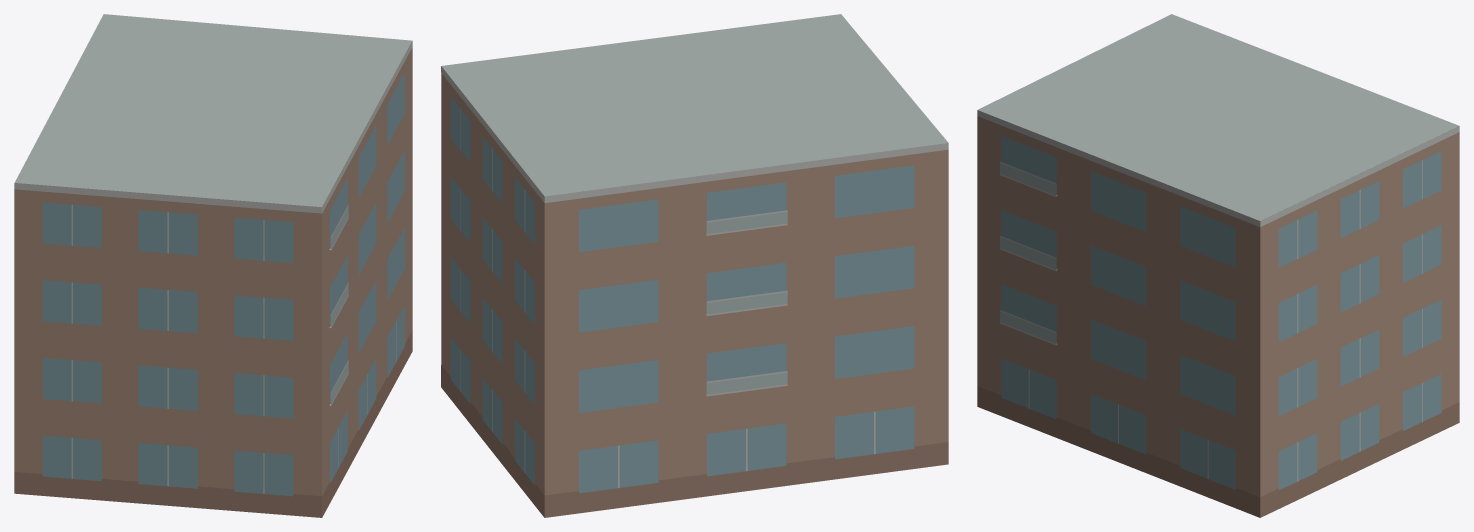
The model's file is survey-upis-32809691.glb.
3 views of the same model, side by side, from view 1: azimuth 30°, elevation 25°; view 2: azimuth 150°, elevation 25°; view 3: azimuth 270°, elevation 25° (orthographic). The views are drawn at different scales.
Parts seen in each view (by area): view 1: survey-upis-32809691.tmp; view 2: survey-upis-32809691.tmp; view 3: survey-upis-32809691.tmp.
Boxes of the visible parts, left/top/right/bottom form: survey-upis-32809691.tmp: left=14, top=14, right=412, bottom=517; survey-upis-32809691.tmp: left=441, top=14, right=948, bottom=517; survey-upis-32809691.tmp: left=977, top=14, right=1459, bottom=517.
Size of the model in its own units: 17.67 by 11.8 by 17.39.
